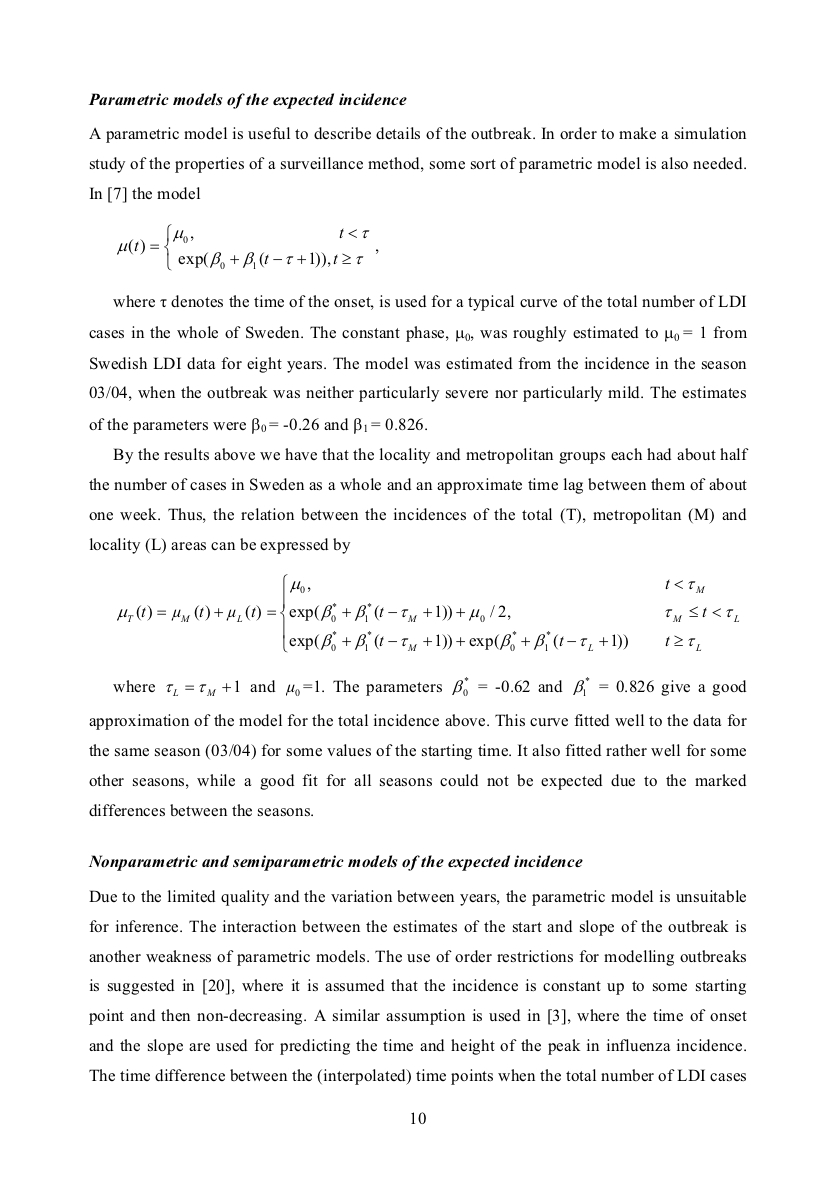formula: (117, 573, 739, 653), (117, 223, 378, 271)
